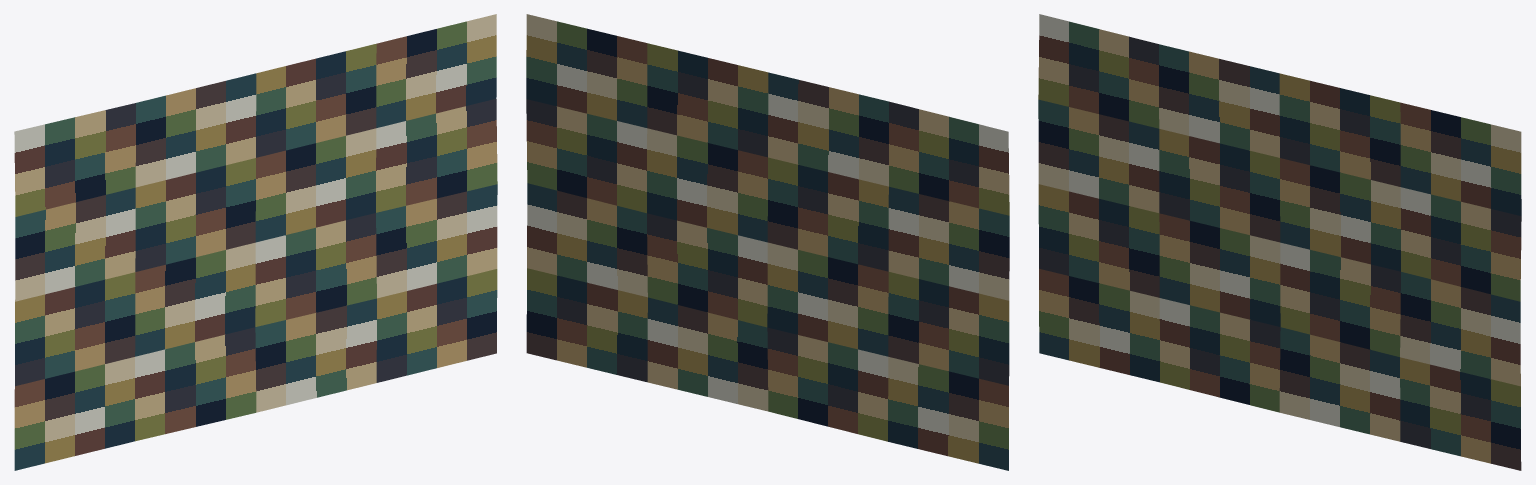
The picture shows the model from 3 angles, left to right: view 1: azimuth 30°, elevation 25°; view 2: azimuth 150°, elevation 25°; view 3: azimuth 330°, elevation 25°; orthographic projection.
Size of the model in its own units: 5771 by 3880 by 24.27.
1 material, 1 textured.
